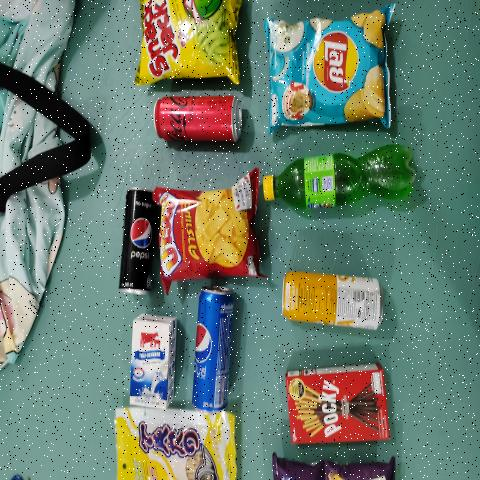coke_red: (149, 93, 242, 143)
fanta_green: (262, 149, 414, 211)
lay_blue: (272, 24, 390, 118)
party_red: (159, 194, 254, 275)
pepsi_black: (124, 180, 148, 294)
pepsi_blue: (192, 286, 230, 408)
pokki: (280, 362, 393, 446)
singha_yellow: (280, 264, 389, 334)
snack_jack: (142, 0, 237, 82)
thai_denmark: (119, 414, 232, 480), (131, 313, 177, 406)
